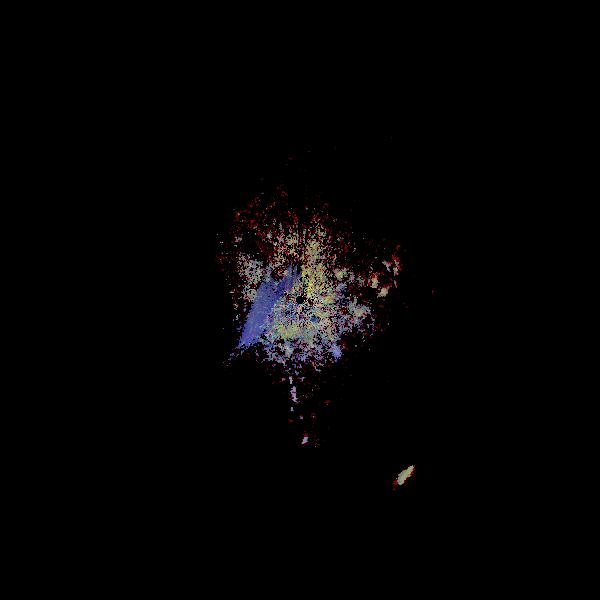roost: (388, 440, 481, 533)
